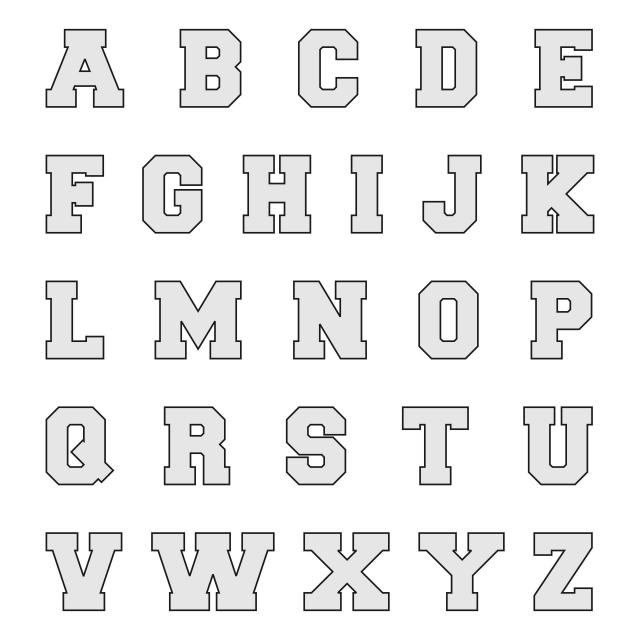S: (265, 393, 364, 506)
